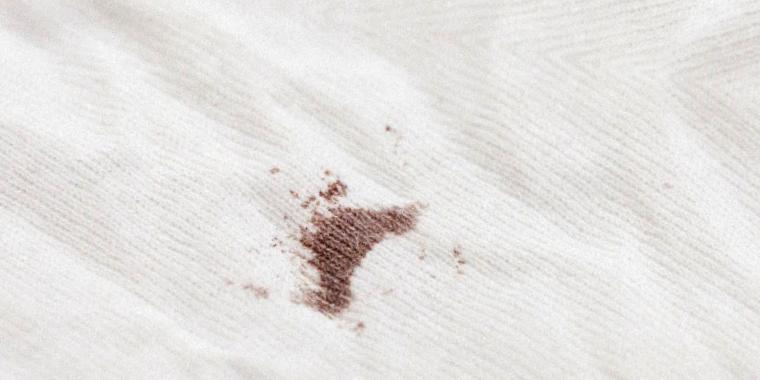stain: (293, 180, 425, 318)
